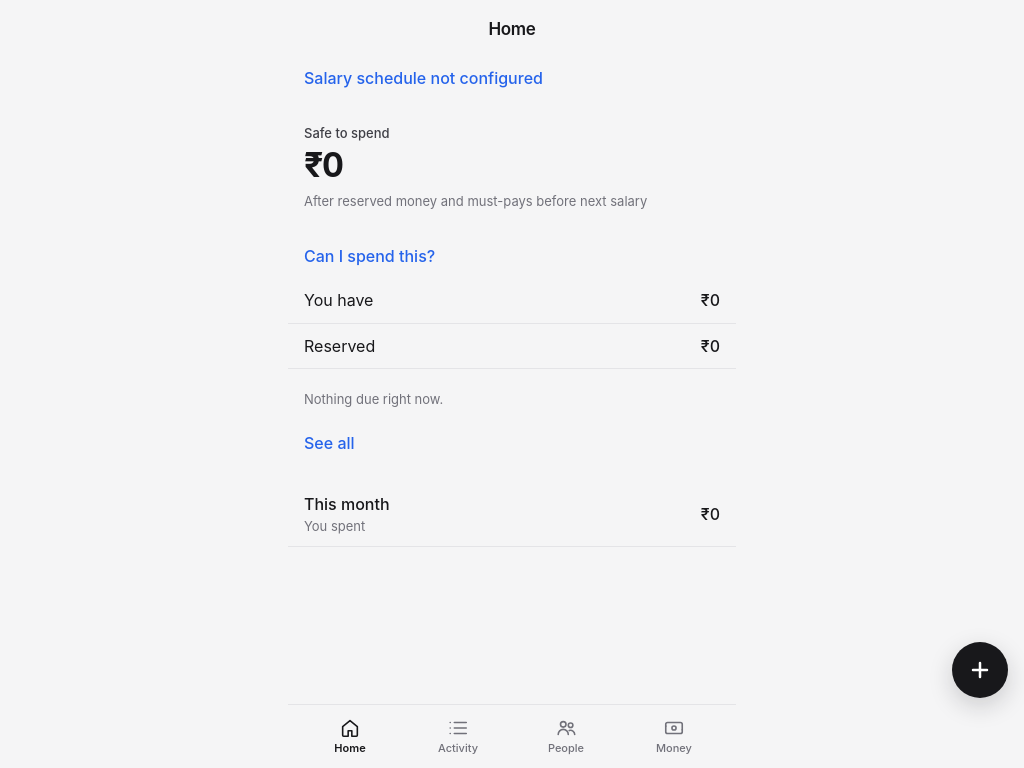
authenticated app access › J — sign out hides inner pages
The width and height of the screenshot is (1024, 768).
Expected: the heading "Home" is shown, [488, 19, 536, 39]
Click the link "Money": (674, 736) [656, 717, 692, 755]
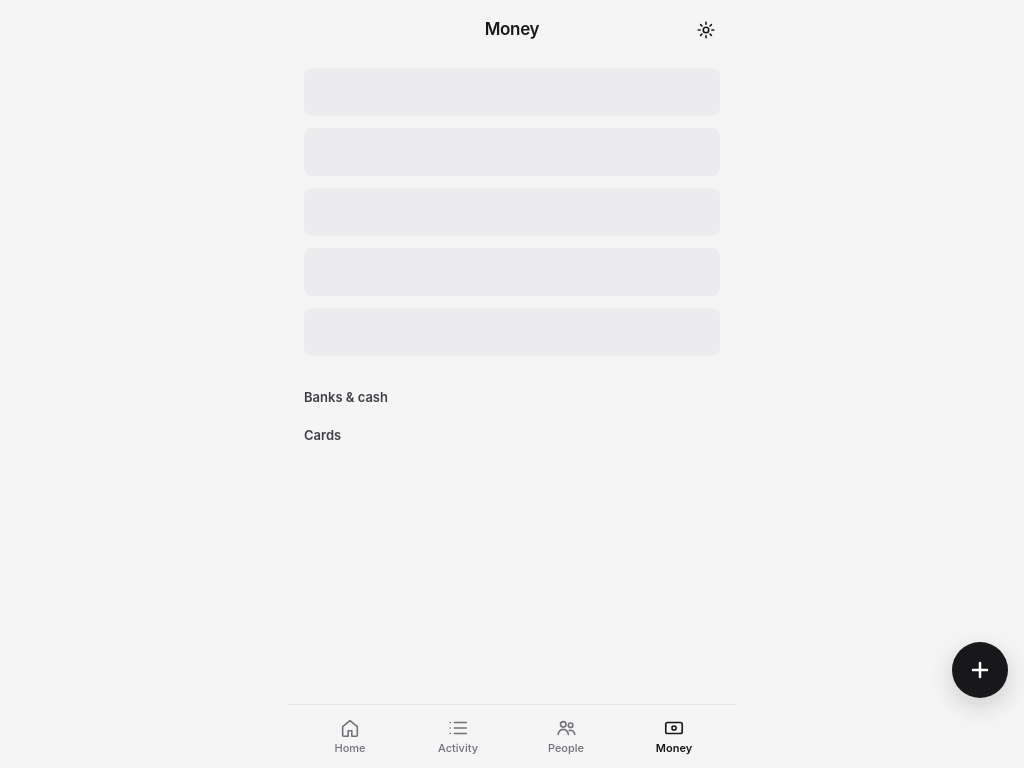
Expected: the heading "Money" is shown, [485, 19, 539, 39]
Click the button named "Manage money": (706, 30) [684, 8, 728, 52]
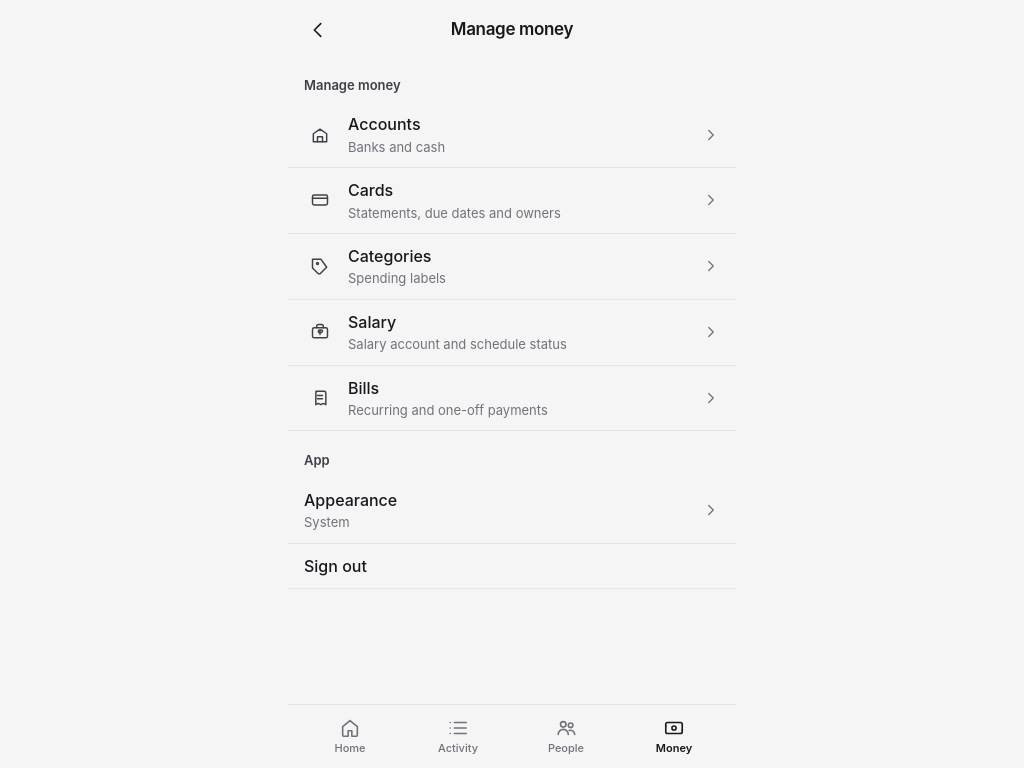
Expected: the heading "Manage money" is shown, [451, 19, 573, 39]
Click the button "Sign out": (335, 566) [288, 544, 736, 589]
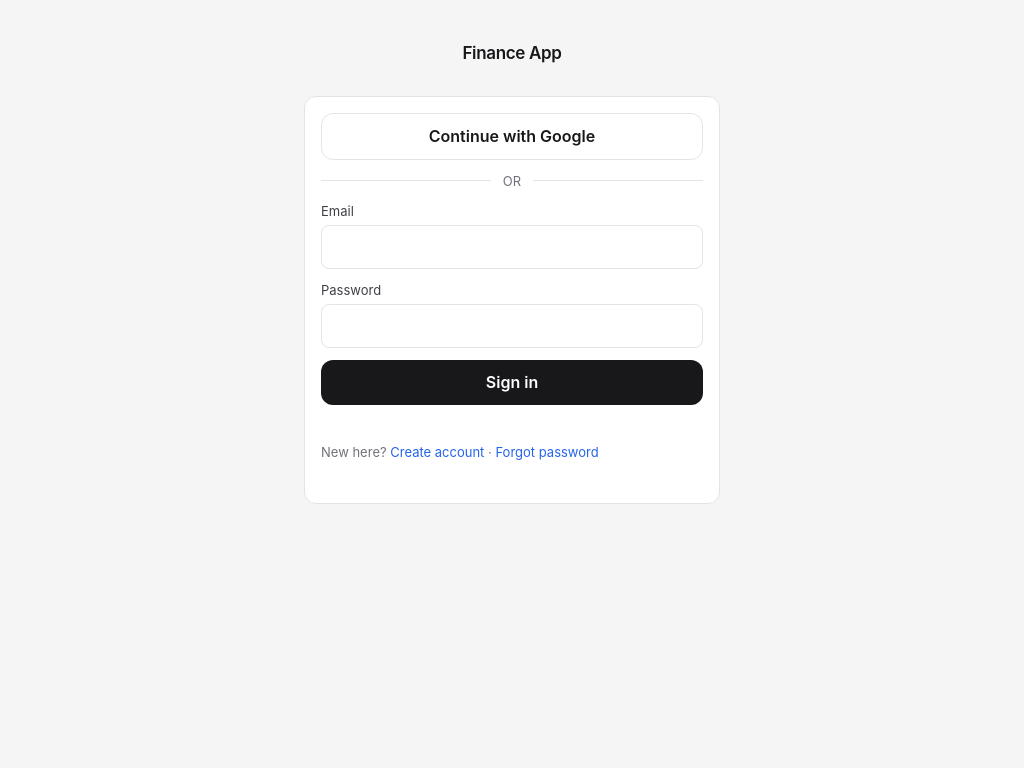
Expected: the button "Sign in" is shown, [321, 360, 703, 405]
Expected: the link "Home" is gone
